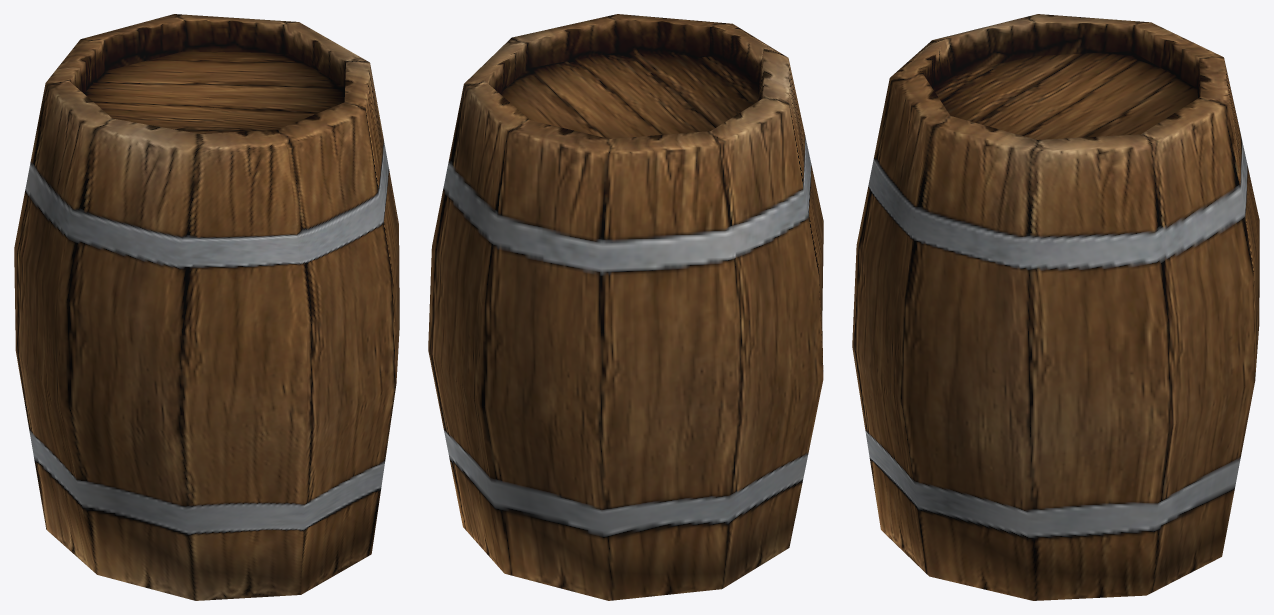
File: barrel.FBX
3 renders of one model, left to right at view 1: azimuth 30°, elevation 25°; view 2: azimuth 150°, elevation 25°; view 3: azimuth 270°, elevation 25°, orthographic.
Parts seen in each view (by area): view 1: barrel; view 2: barrel; view 3: barrel.
Boxes of the visible parts, x1,y1,x2,y2 form: barrel: (14, 14, 399, 600); barrel: (428, 14, 823, 600); barrel: (852, 14, 1259, 600).
Bounding box in the file's own units: 14.96 × 19.3 × 15.58.
